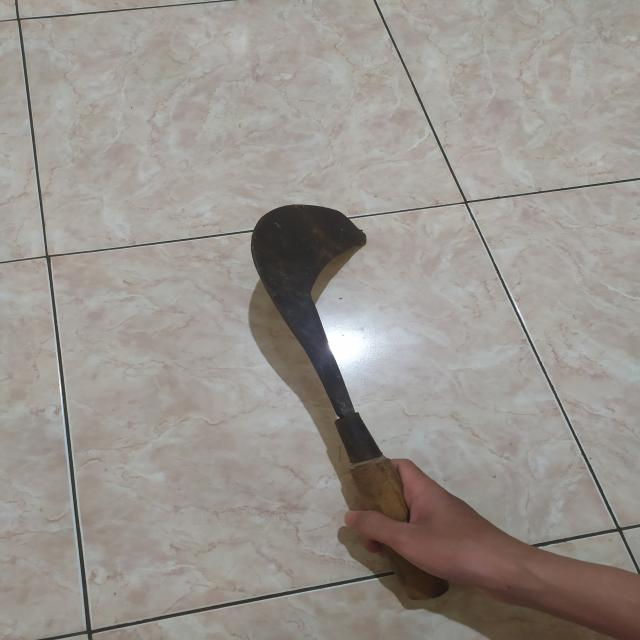Celurit: (253, 206, 460, 603)
